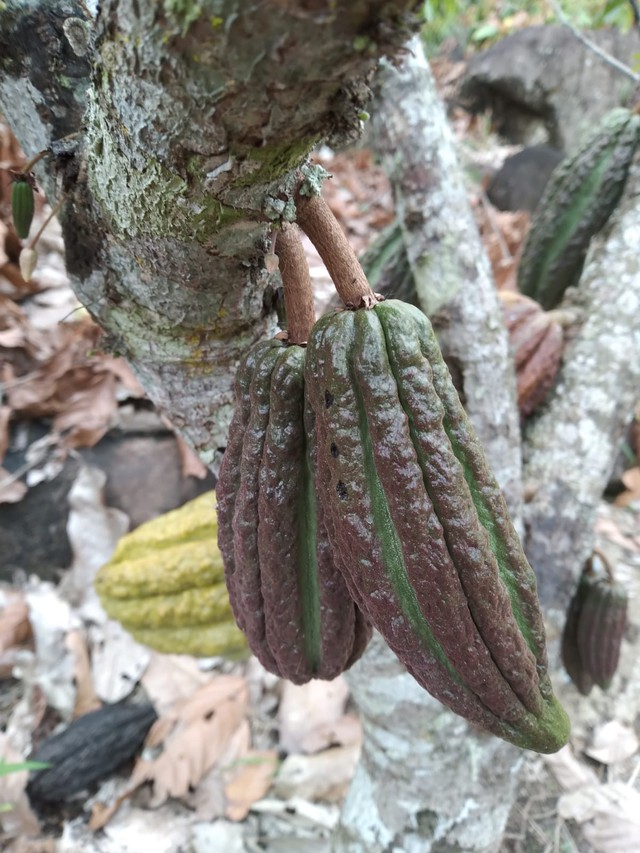Health: (302, 295, 580, 756), (217, 333, 380, 689)
